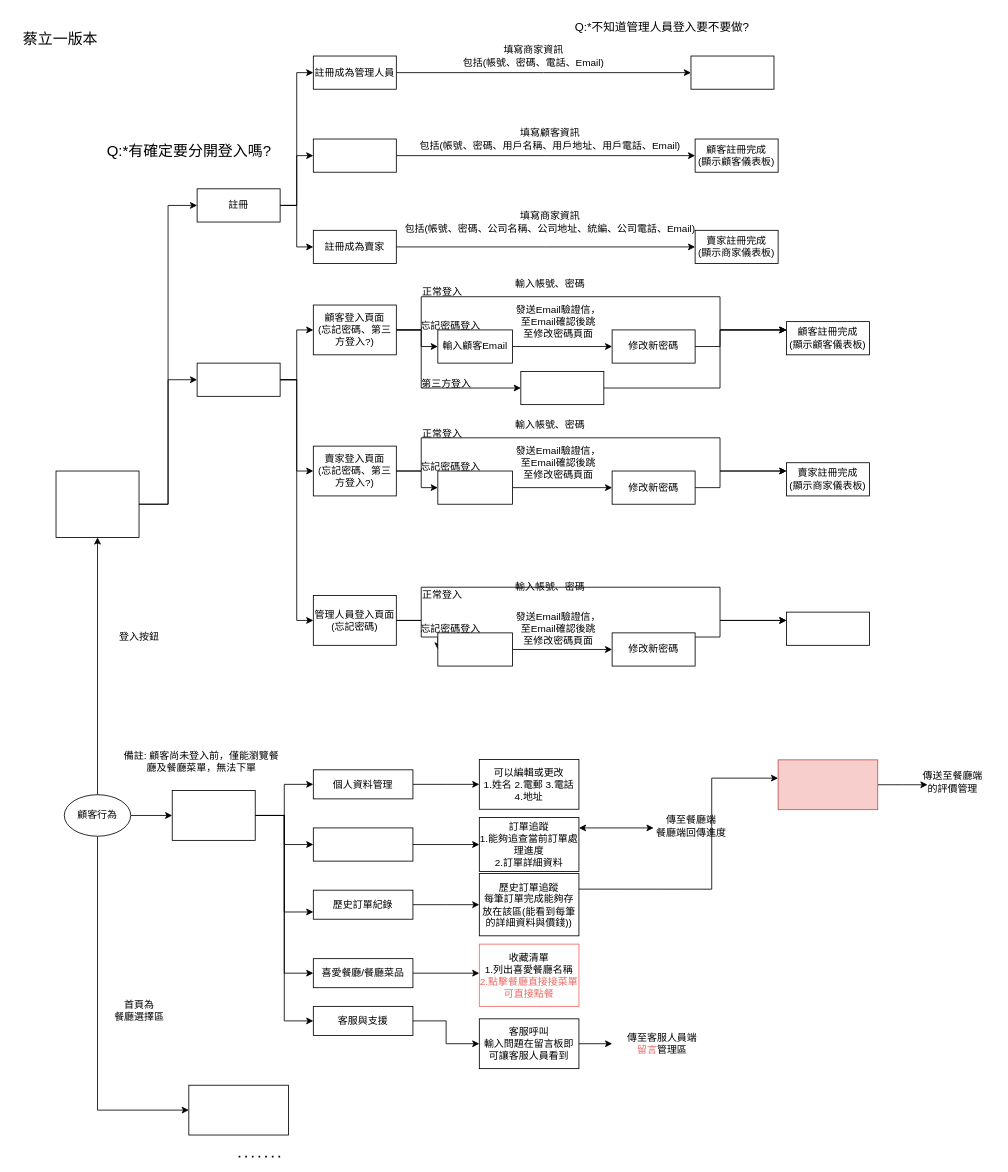
This 1008x1172 diagram has some shape labels left out. Each missing label, with the centre of its shape:
(登入後) 顧客儀表板: the point at 213,815
每筆訂單旁有評價鍵，評價店家/外送員: the point at 827,784
登入: the point at 238,379
第三方登入??? (Facebook?): the point at 562,388
管理員註冊完成 (顯示管理人員儀表板): the point at 732,72
管理員註冊完成 (顯示管理員儀表板): the point at 827,628
訂單追蹤: the point at 362,844
註冊成為顧客: the point at 354,155
註冊與登入方式 (顧客端/餐廳端/ 外送員端?/管理員端): the point at 97,503
輸入管理人員Email: the point at 475,649
輸入賣家Email: the point at 475,487
餐廳端儀表板: the point at 238,1109
